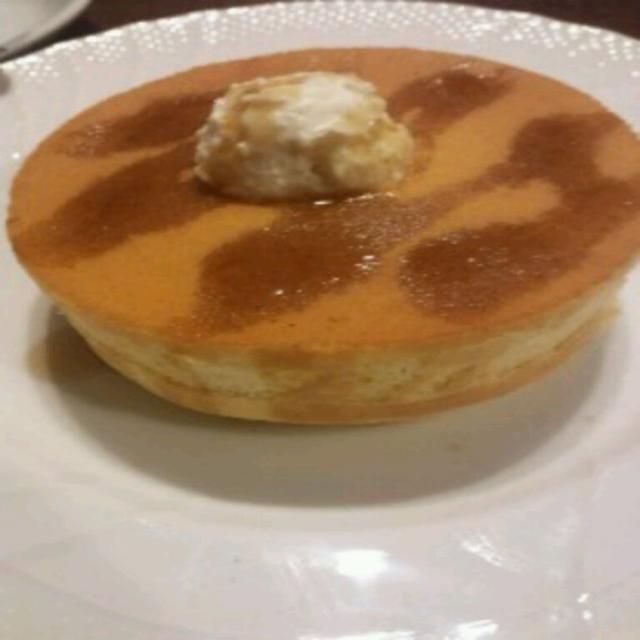蛋糕甜品: (6, 4, 635, 618)
